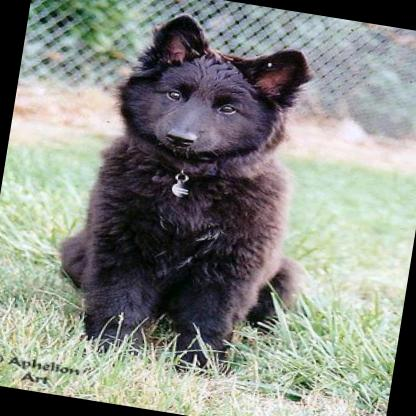groenendael: (39, 0, 339, 380)
